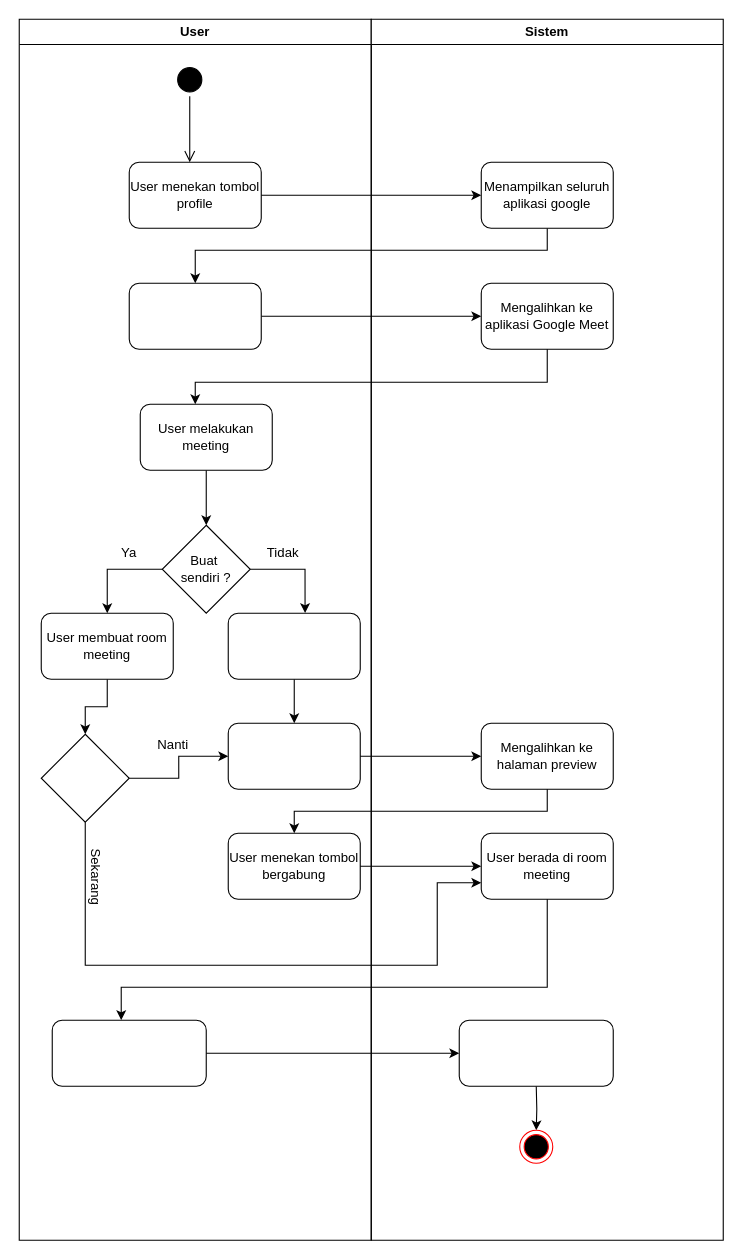
This 743x1260 diagram has some shape labels left out. Each missing label, with the box of its shape:
Meeting berhenti dan dialihkan ke halaman Google Meet: (458, 1019, 613, 1086)
Meminta link room: (227, 612, 360, 679)
Mendapatkan link room meeting dan diinputkan ke input kode: (227, 722, 360, 789)
Sekarang / nanti ?: (40, 733, 129, 822)
User memilih aplikasi google meet: (128, 282, 261, 349)
User menekan tombol berwarna mera untuk keluar dari room meeting: (51, 1019, 206, 1086)
